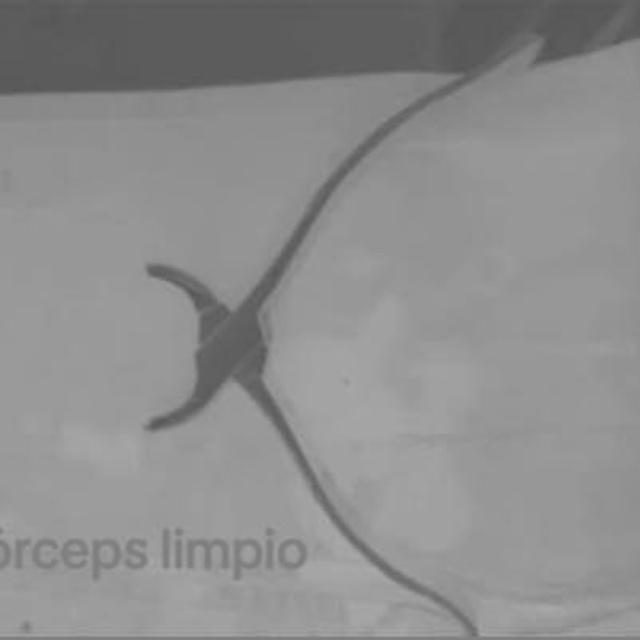forceps: (145, 36, 543, 639)
